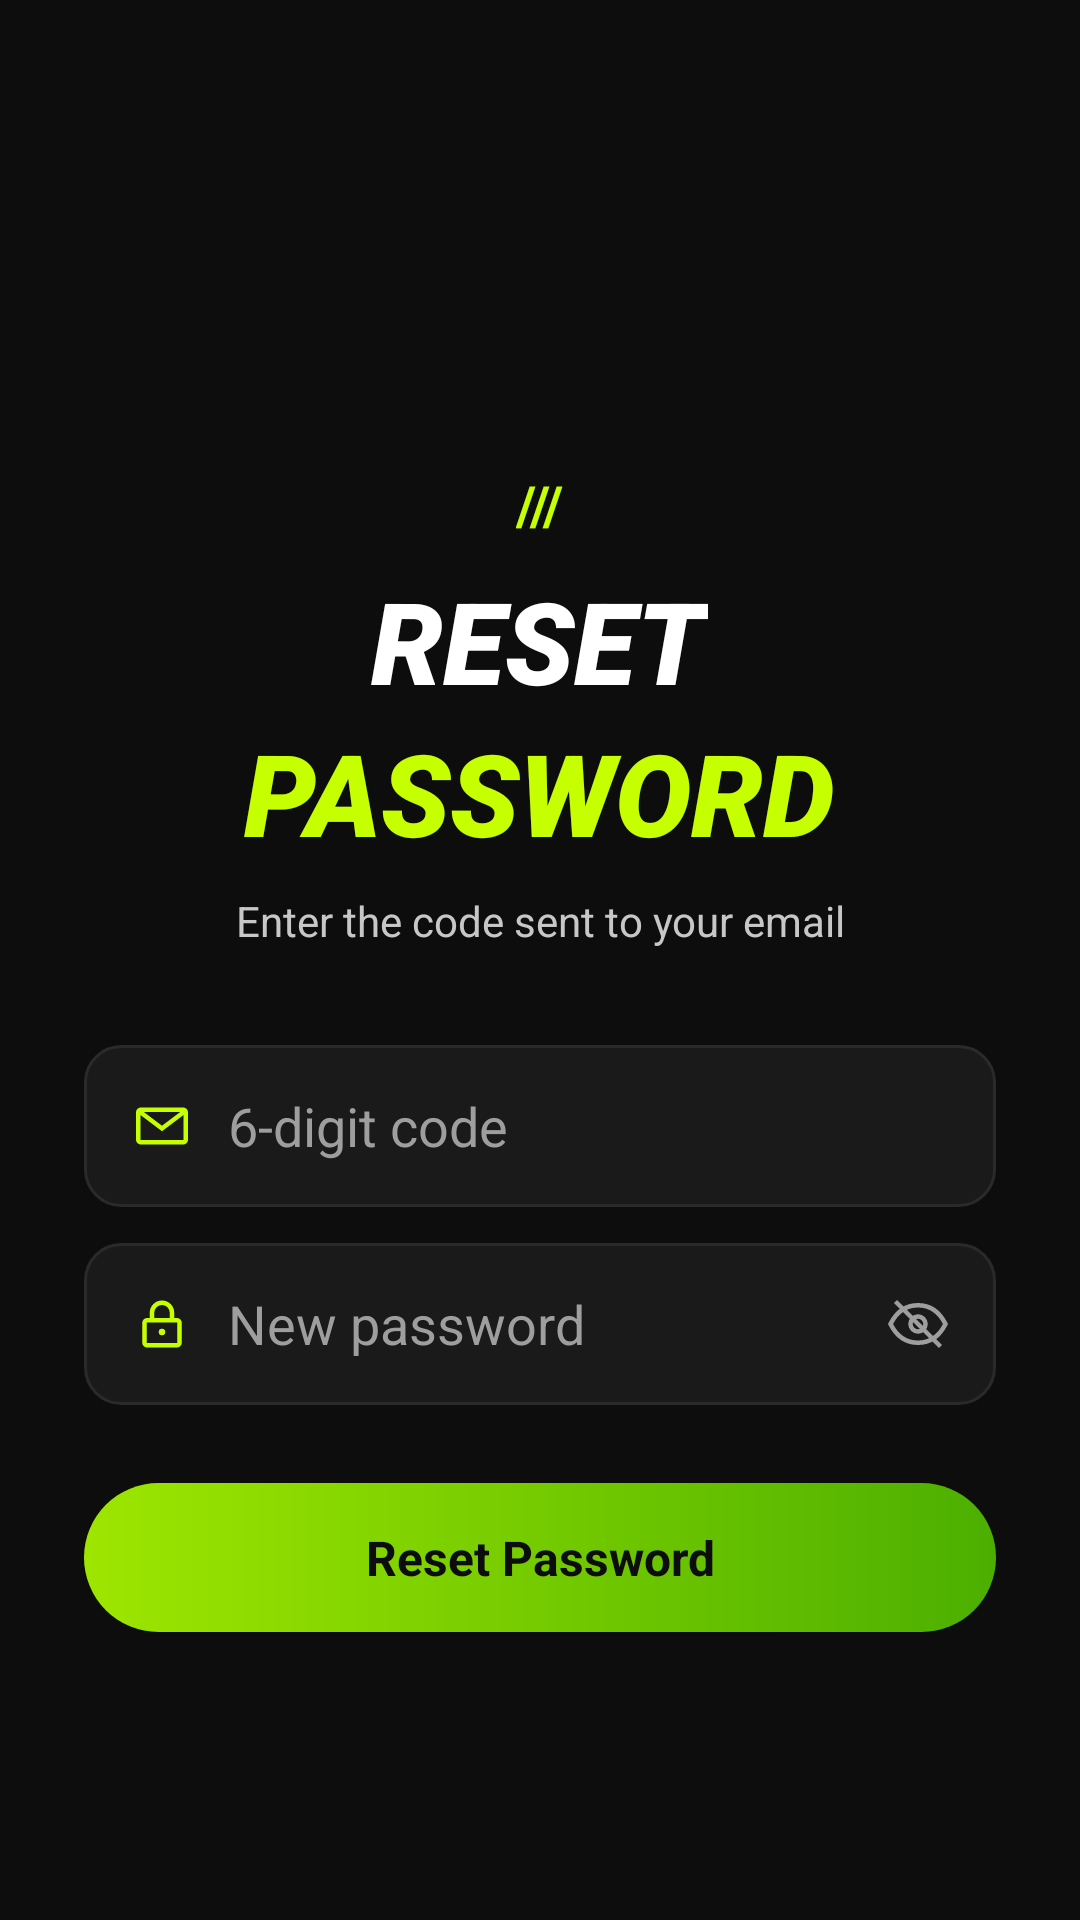

Named icons in this screenshot (1080 x 1920) and their centers, (x=x, y=y):
eye off: (x=918, y=1324)
lock: (x=162, y=1324)
